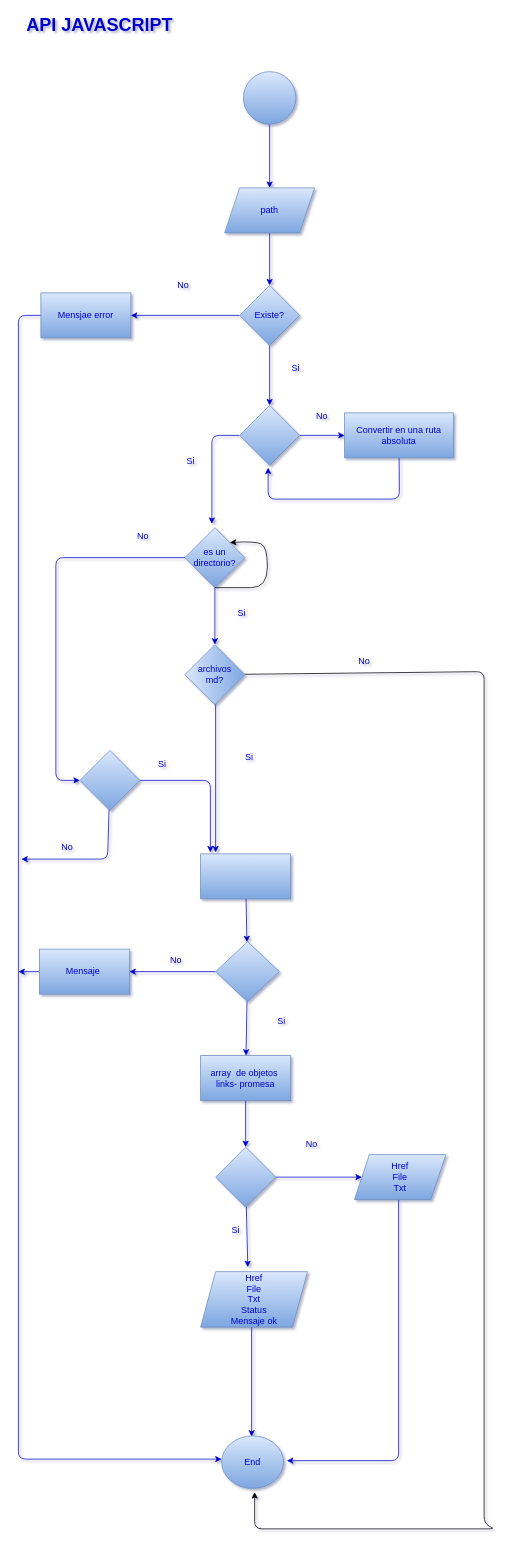
This 518x1553 diagram has some shape labels left out. The shapes that lost their labels are listed below. From the top down, each one's box as (x1, y1, x2, y2) in pixels, then its label:
(243, 71, 296, 124): Start
(239, 405, 300, 465): La ruta es absoluta?
(79, 750, 140, 810): es md?
(200, 853, 291, 899): leer contenido
(215, 941, 279, 1002): tiene links?
(215, 1146, 276, 1207): valida, verdadero?
